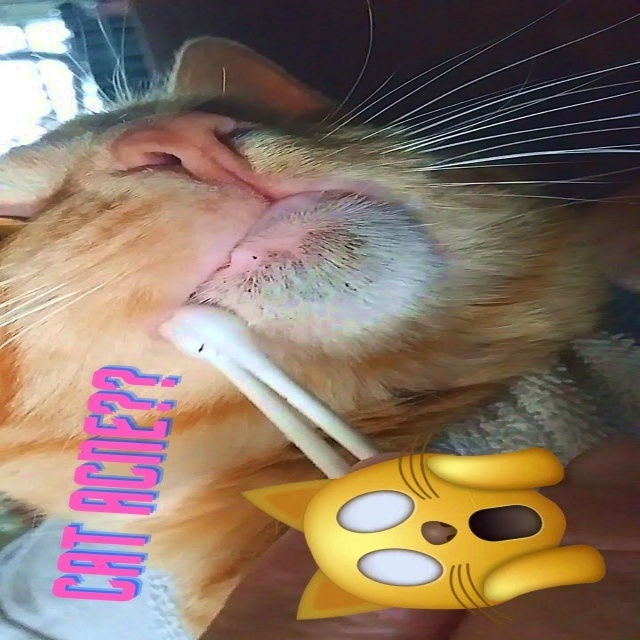acne: (236, 220, 400, 303)
